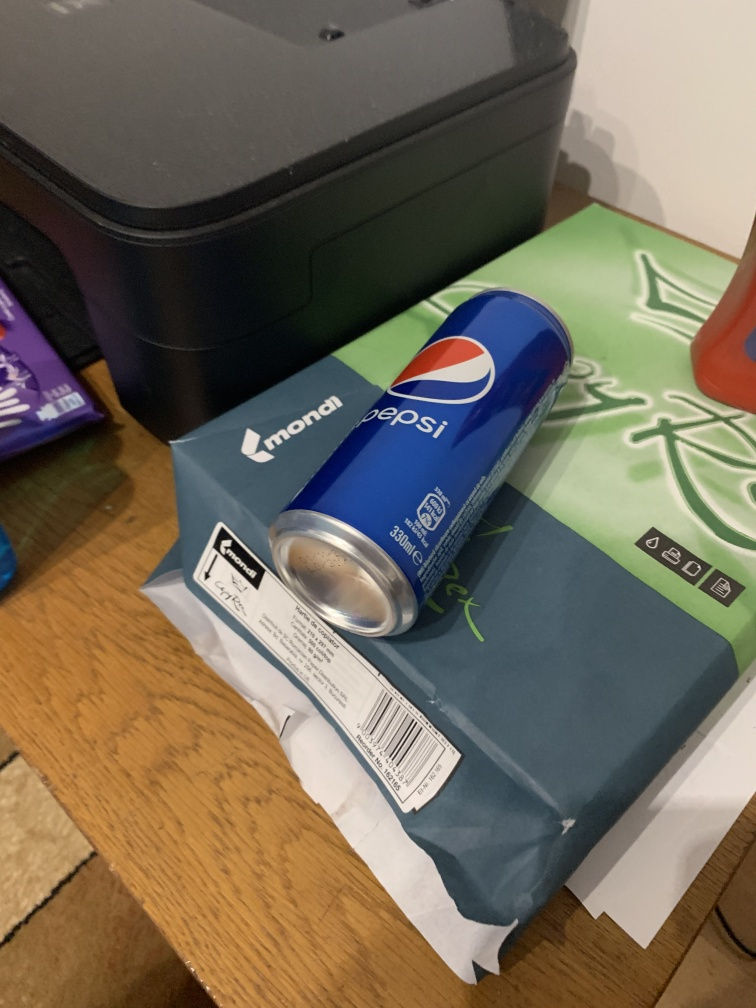pepsi: (262, 267, 578, 647)
